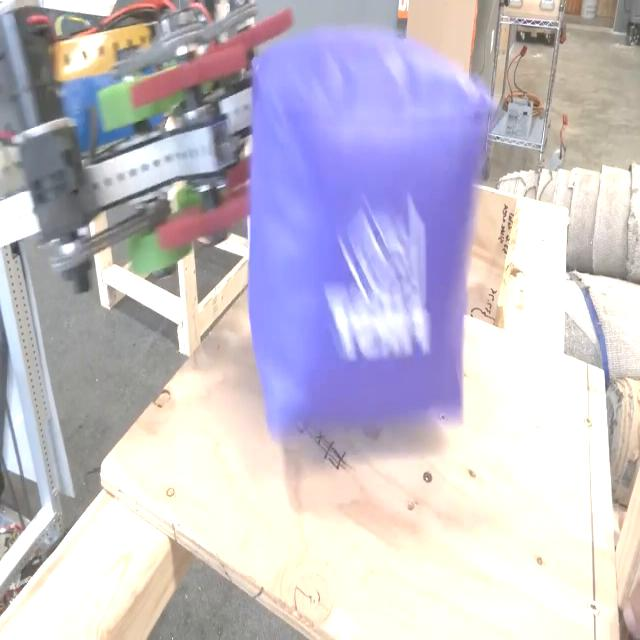frc_cube: (248, 48, 487, 418)
